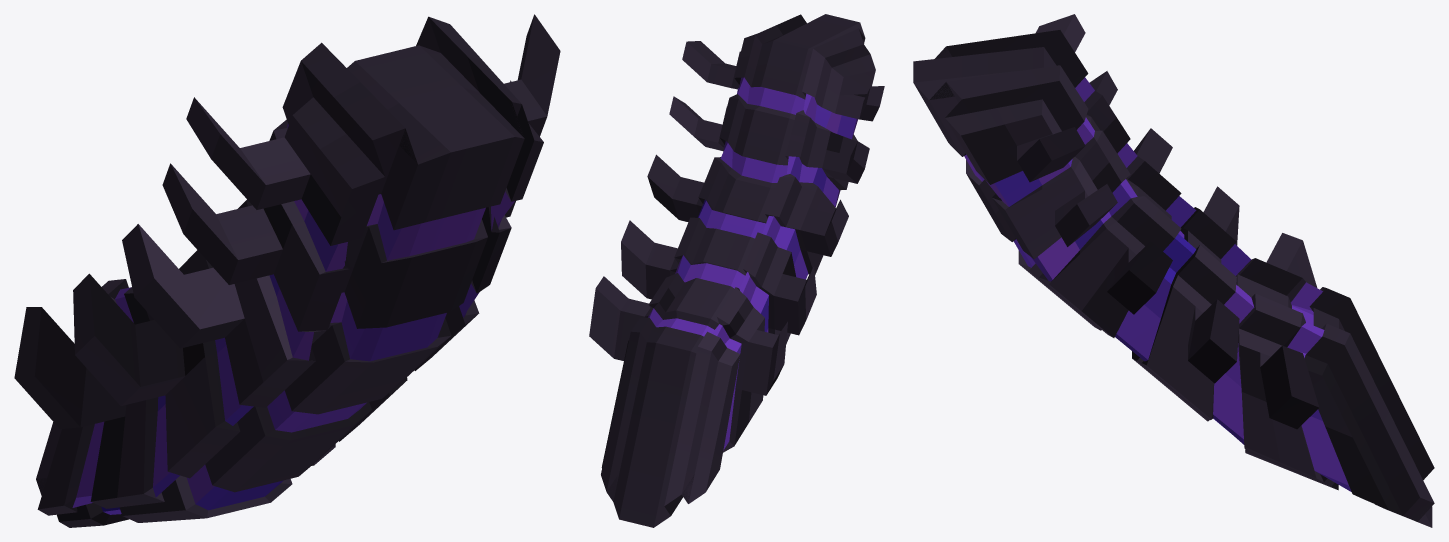
Rendered from StandardEngine.fbx.
The picture shows the model from 3 angles, left to right: view 1: azimuth 30°, elevation 25°; view 2: azimuth 150°, elevation 25°; view 3: azimuth 270°, elevation 25°; orthographic projection. The views are drawn at different scales.
Parts seen in each view (by area): view 1: StandardEngine; view 2: StandardEngine; view 3: StandardEngine.
Part boxes in pixels (box(x1,y1,x2,y2)): StandardEngine: box(14, 14, 560, 527); StandardEngine: box(589, 14, 884, 527); StandardEngine: box(913, 14, 1434, 527).
Size of the model in its own units: 0.4753 by 0.9268 by 0.9217.
